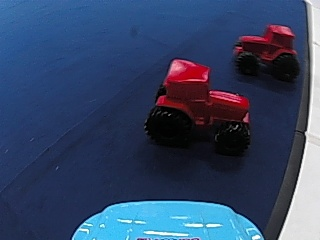tractor: (147, 54, 256, 155), (231, 21, 302, 81)
